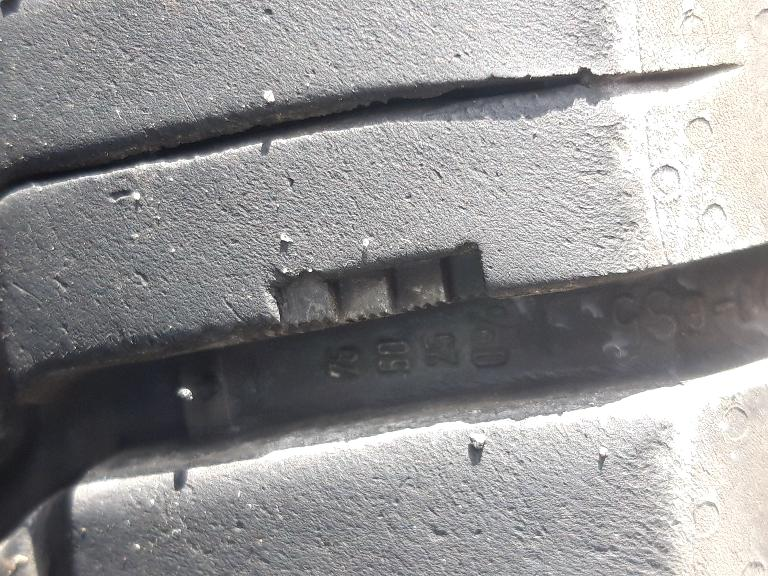temoin:90: (224, 234, 510, 353)
